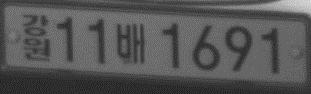1: (259, 26, 288, 74), (160, 22, 187, 69), (54, 16, 81, 62), (85, 18, 112, 64)
6: (192, 24, 221, 71)
9: (223, 24, 254, 72)
강원_V: (21, 12, 51, 62)
배: (115, 21, 145, 65)
